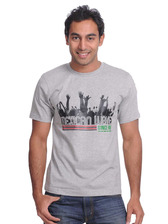clothoes: (26, 60, 142, 199)
